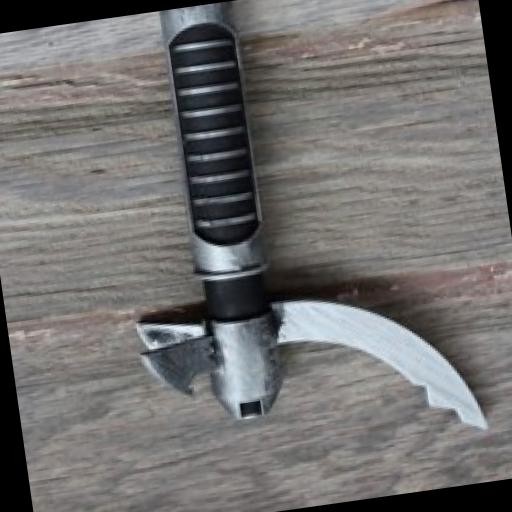lightsaber: (80, 0, 505, 477)
